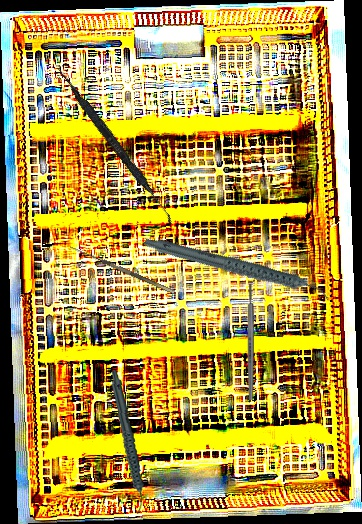Handpiece: (142, 201, 332, 338), (106, 369, 149, 515)
Hook Surgical: (66, 244, 176, 300)
Scalpel Handle: (247, 284, 254, 400)
Spatula Surgical: (51, 66, 180, 225)
